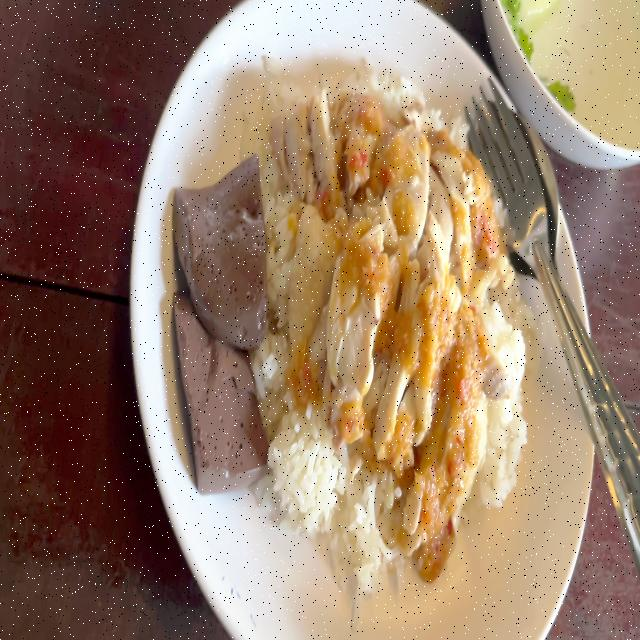boiled_chicken: (284, 95, 501, 488)
boiled_chicken_blood_jelly: (173, 155, 266, 353), (173, 304, 260, 496)
chicken_rice: (172, 51, 546, 592)
